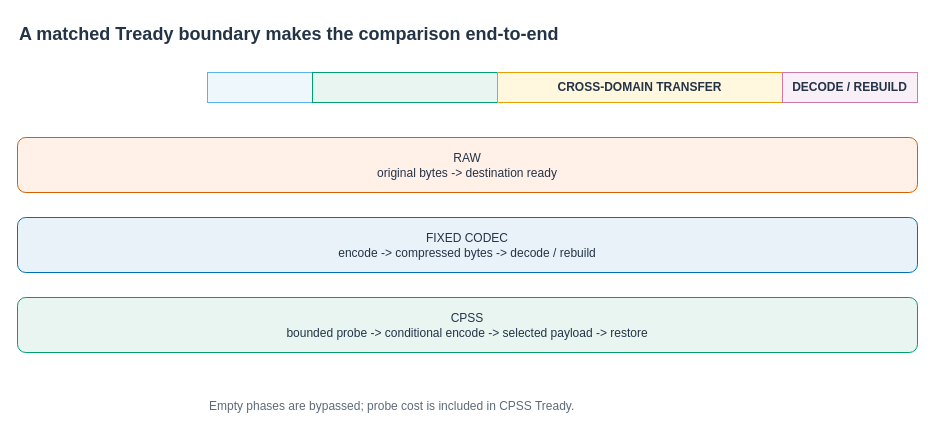
Image size: 935x444. Some labels were removed from this diagram. The centre of each missing label's shape, as x and y in pixels:
"FULL-DATA ENCODE" goes at (405,87).
"PROBE / SCAN" goes at (259,87).
